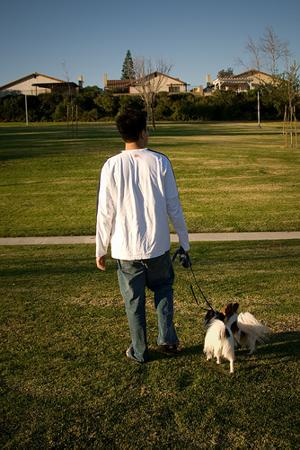person: (95, 95, 188, 367)
